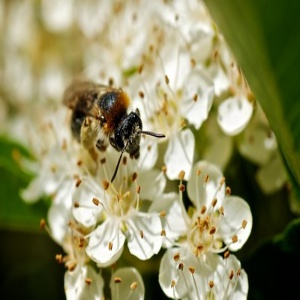bee: (61, 82, 164, 175)
